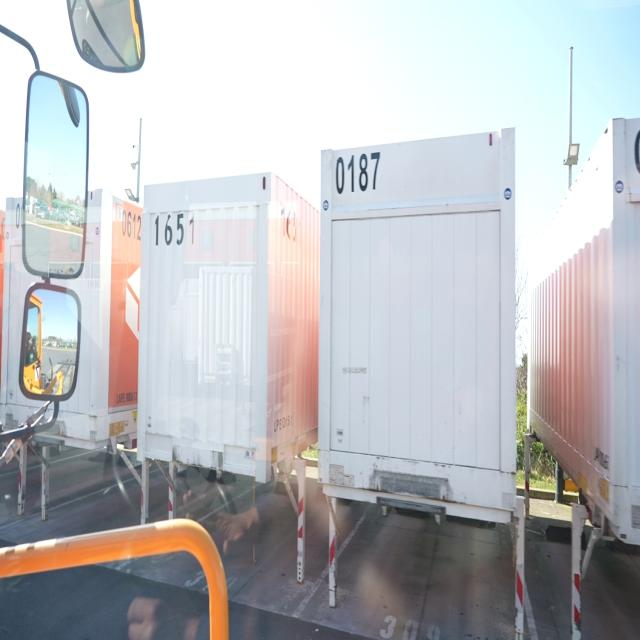Code: (330, 142, 386, 204), (149, 207, 203, 253), (117, 197, 147, 245)
